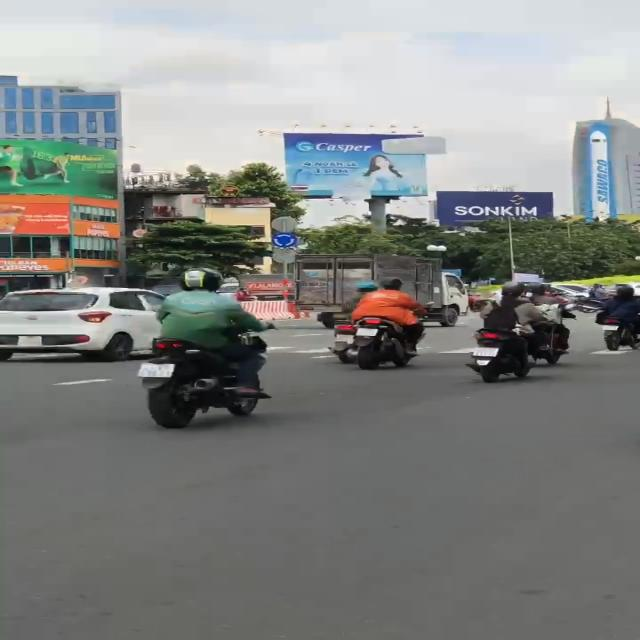Bien bao noi giao nhau chay theo vong xuyen: (268, 232, 300, 248)
